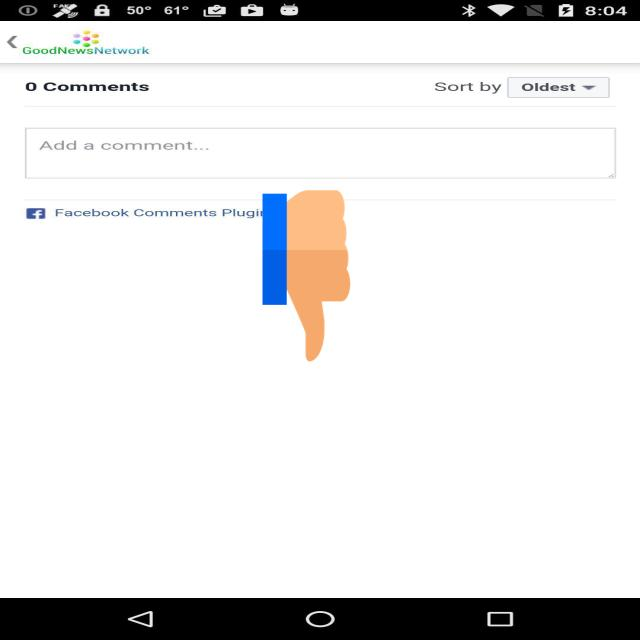obstruction: (263, 186, 350, 366)
